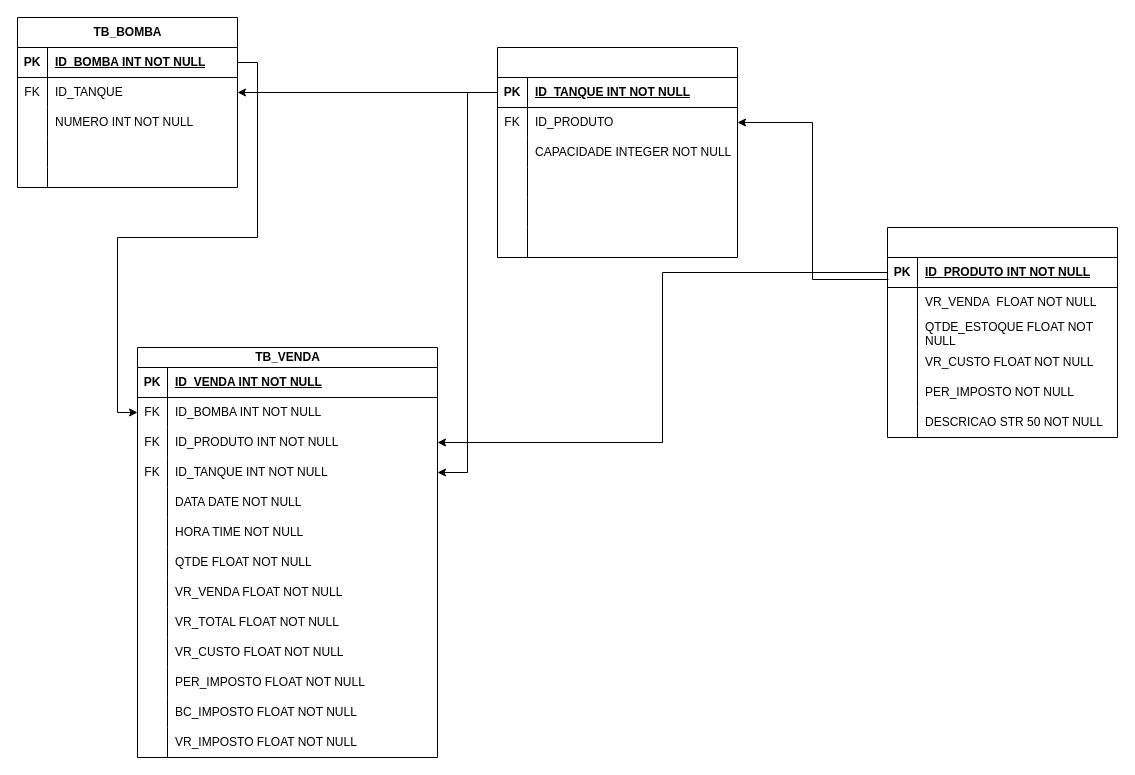
The diagram is 1135 pixels wide and 775 high, and some of its shapes have lost their labels. The box of each missing label's shape, as (x1, y1, x2, y2) in pixels:
TB_PRODUTO: (886, 226, 1118, 438)
TB_TANQUE: (496, 46, 738, 258)
